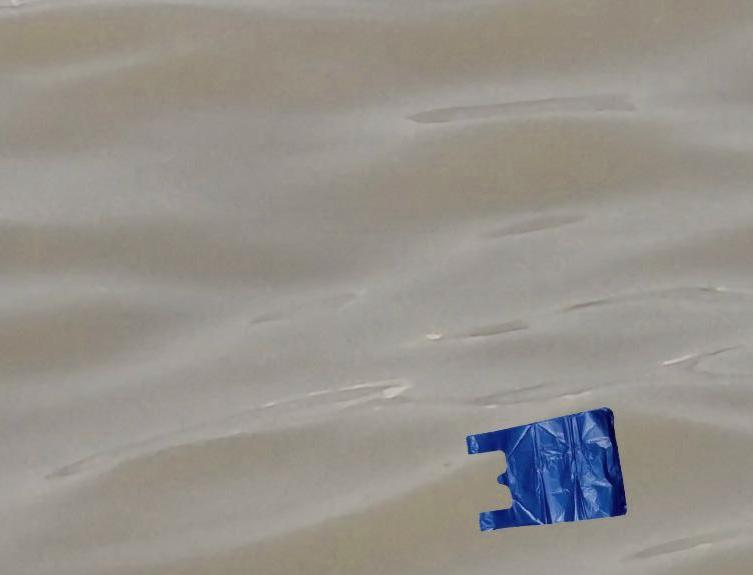Trash: (465, 404, 626, 537)
